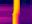Hotspot: (12, 0, 18, 23)
